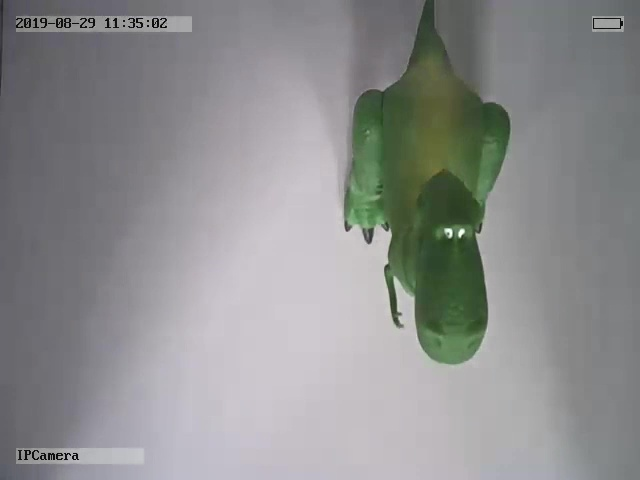rex: (342, 2, 514, 366)
